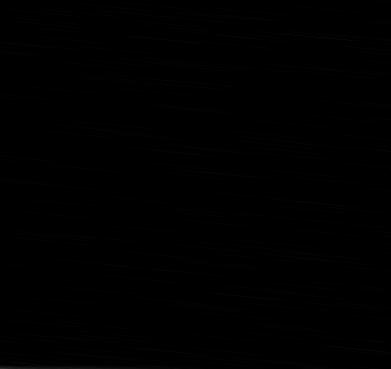Airbag: (0, 0, 391, 368), (373, 11, 391, 368)
